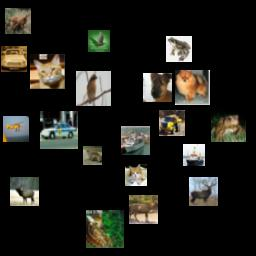airplane: (3, 116, 29, 142)
automobile: (40, 111, 78, 149), (1, 46, 27, 72)
bird: (76, 71, 111, 106), (88, 30, 110, 52)
cat: (30, 54, 65, 89), (125, 164, 147, 186)
deer: (86, 210, 124, 248), (129, 195, 158, 224), (189, 177, 218, 206), (10, 177, 39, 206), (5, 8, 31, 34)
dog: (175, 70, 210, 105), (143, 73, 172, 102)
frog: (211, 107, 246, 142), (166, 36, 192, 62), (83, 146, 102, 165)
ship: (121, 126, 150, 155), (183, 144, 205, 166)
truck: (159, 110, 185, 136)
